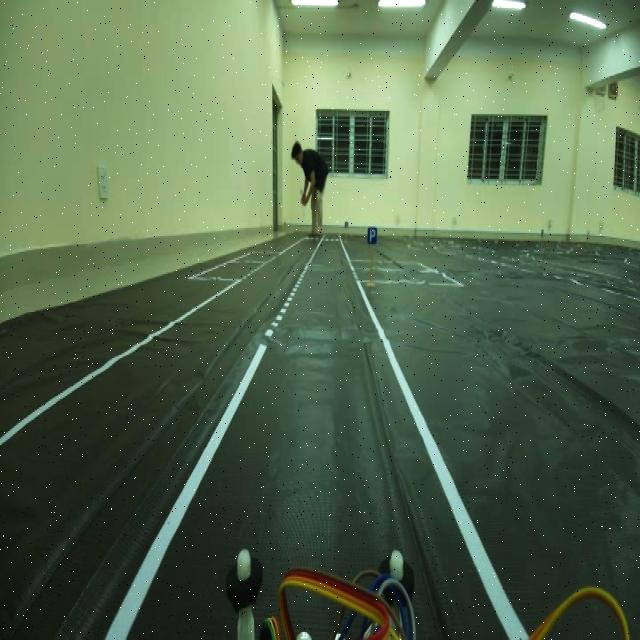parking: (364, 218, 380, 254)
